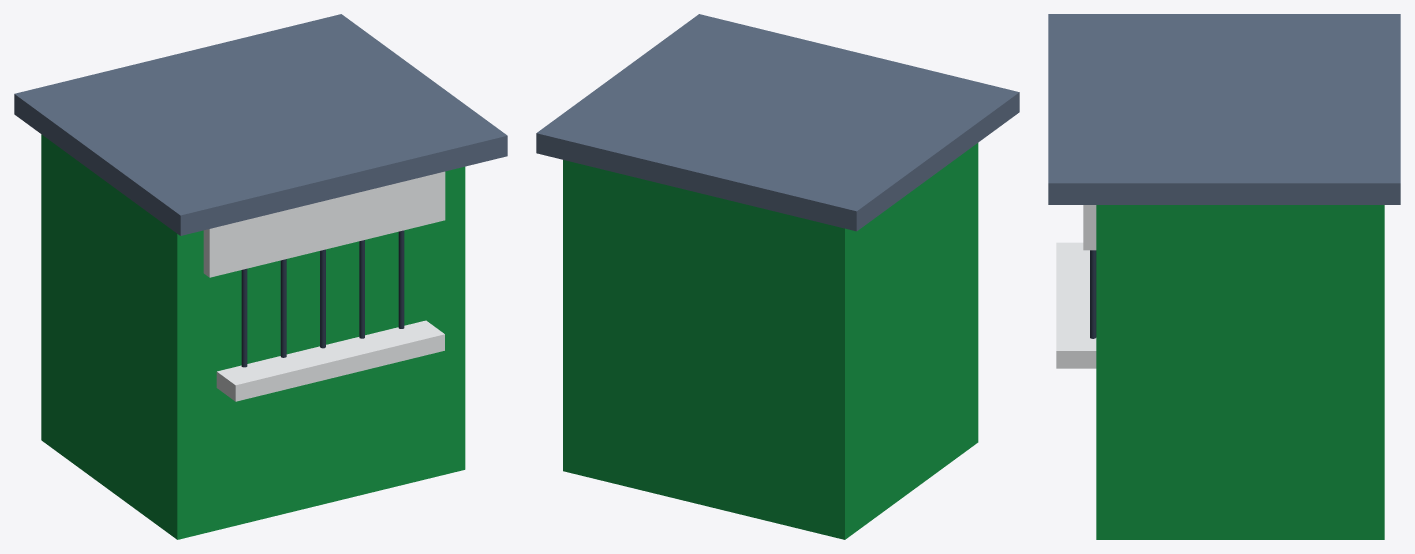
The model's file is env_mpesa_kiosk_01.glb.
3 views of the same model, side by side, from view 1: azimuth 30°, elevation 25°; view 2: azimuth 150°, elevation 25°; view 3: azimuth 270°, elevation 25° (orthographic). The views are drawn at different scales.
Parts seen in each view (by area): view 1: env_mpesa_kiosk_01; view 2: env_mpesa_kiosk_01; view 3: env_mpesa_kiosk_01.
Boxes of the visible parts, x1,y1,x2,y2 form: env_mpesa_kiosk_01: (14, 14, 507, 539); env_mpesa_kiosk_01: (536, 14, 1019, 539); env_mpesa_kiosk_01: (1048, 14, 1400, 539).
Bounding box in the file's own units: 2.5 × 2.53 × 2.2.
